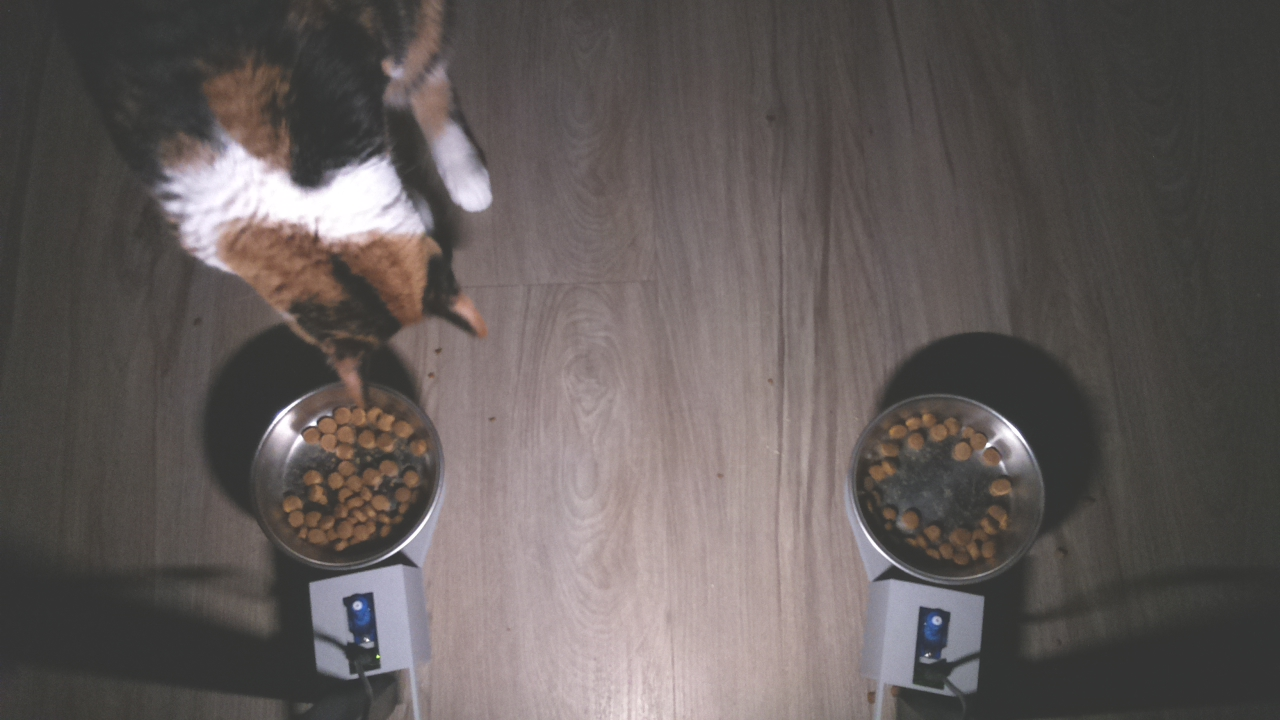bella: (154, 126, 511, 401)
open_bowl: (239, 372, 466, 584), (837, 389, 1050, 599)
